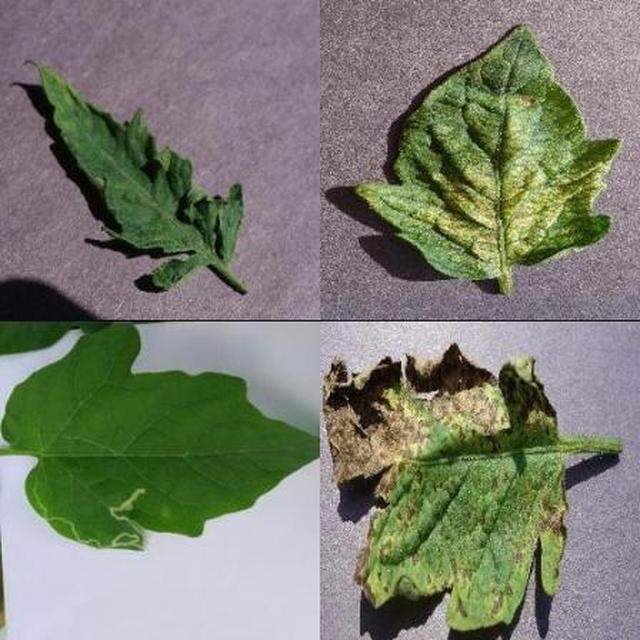Mosaic Virus Leaf: (194, 214, 640, 640)
